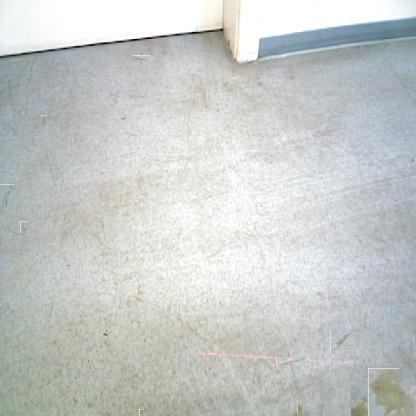liquid: (359, 376, 407, 416), (294, 406, 307, 416)
mark: (330, 331, 354, 354), (281, 352, 301, 371), (0, 184, 14, 207), (135, 53, 148, 65), (126, 126, 139, 138), (20, 221, 27, 232), (41, 115, 47, 126), (102, 329, 110, 337), (119, 114, 127, 122), (409, 156, 416, 163), (139, 409, 144, 416)
